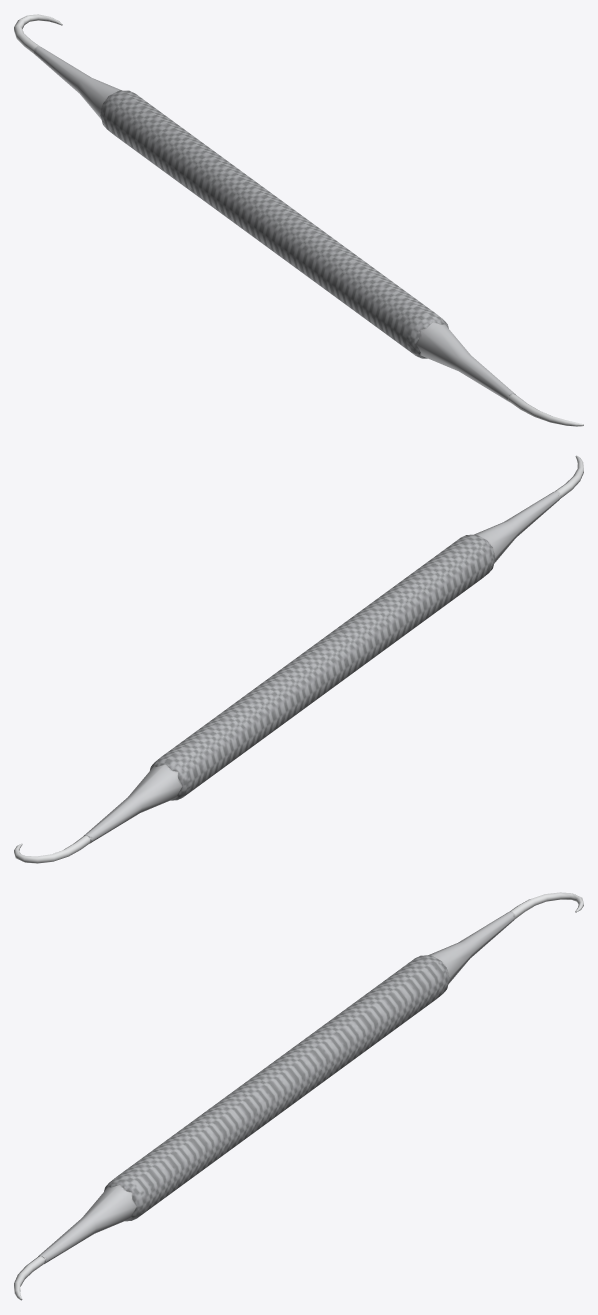
File: dental_explorer.glb
The picture shows the model from 3 angles, top to bottom: view 1: azimuth 30°, elevation 25°; view 2: azimuth 150°, elevation 25°; view 3: azimuth 330°, elevation 25°; orthographic projection.
Parts seen in each view (by area): view 1: d2_dental_explorer; view 2: d2_dental_explorer; view 3: d2_dental_explorer.
Boxes of the visible parts, x1,y1,x2,y2 form: d2_dental_explorer: (14,14,583,426); d2_dental_explorer: (14,455,583,863); d2_dental_explorer: (14,892,583,1300).
Size of the model in its own units: 0.0113 by 0.007 by 0.1647.
1 material, 1 textured.
